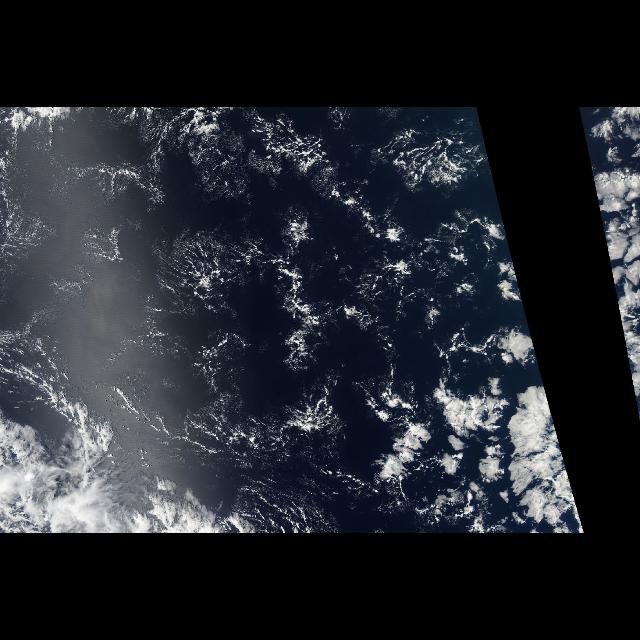Flower: (262, 191, 586, 534), (598, 205, 640, 421)
Sugar: (8, 165, 288, 398)
